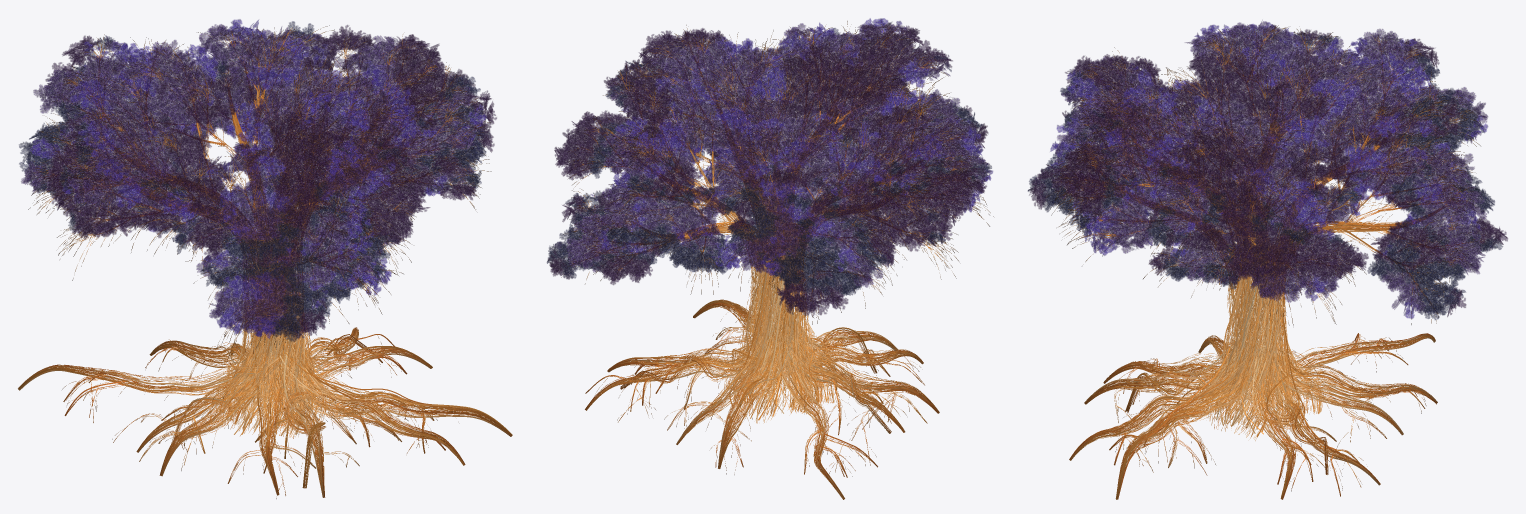
File: yggdrasil-strands.glb
The picture shows the model from 3 angles, left to right: view 1: azimuth 30°, elevation 25°; view 2: azimuth 150°, elevation 25°; view 3: azimuth 270°, elevation 25°; orthographic projection. The views are drawn at different scales.
Parts seen in each view (by area): view 1: YGG_StrandLeaves, YGG_StrandRoots, YGG_StrandCanopy, YGG_StrandTrunk, YGG_StrandBranches; view 2: YGG_StrandLeaves, YGG_StrandRoots, YGG_StrandCanopy, YGG_StrandTrunk, YGG_StrandBranches; view 3: YGG_StrandLeaves, YGG_StrandRoots, YGG_StrandCanopy, YGG_StrandTrunk, YGG_StrandBranches.
Part boxes in pixels (box(x1,y1,x2,y2)): YGG_StrandLeaves: box(19, 19, 496, 341); YGG_StrandRoots: box(18, 327, 512, 498); YGG_StrandCanopy: box(28, 25, 491, 359); YGG_StrandTrunk: box(209, 234, 329, 438); YGG_StrandBranches: box(37, 31, 465, 336); YGG_StrandLeaves: box(547, 18, 992, 316); YGG_StrandRoots: box(585, 299, 939, 499); YGG_StrandCanopy: box(561, 21, 993, 324); YGG_StrandTrunk: box(724, 224, 835, 423); YGG_StrandBranches: box(576, 30, 967, 292); YGG_StrandLeaves: box(1028, 20, 1507, 319); YGG_StrandRoots: box(1069, 333, 1437, 499); YGG_StrandCanopy: box(1045, 25, 1486, 325); YGG_StrandTrunk: box(1202, 242, 1322, 440); YGG_StrandBranches: box(1069, 29, 1470, 313).
Bounding box in the file's own units: 53.65 × 44.76 × 54.76.
Materials: 2 (1 with a texture image).
